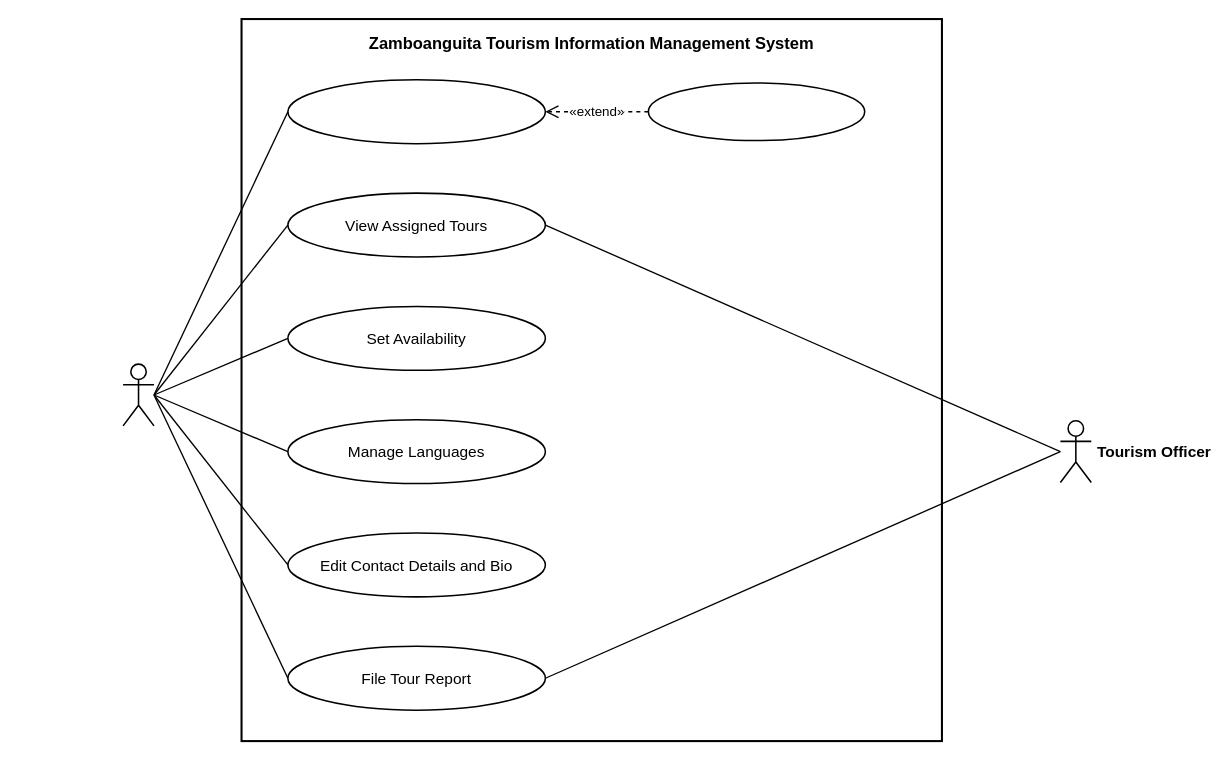
This 1230x759 diagram has some shape labels left out. The shapes that lost their labels are listed below. From the top down, each one's centre as x and y in pixels, then its label:
At (x=416, y=111): "Log In".
At (x=756, y=111): "Reset Password".
At (x=138, y=394): "Tourist Guide".
